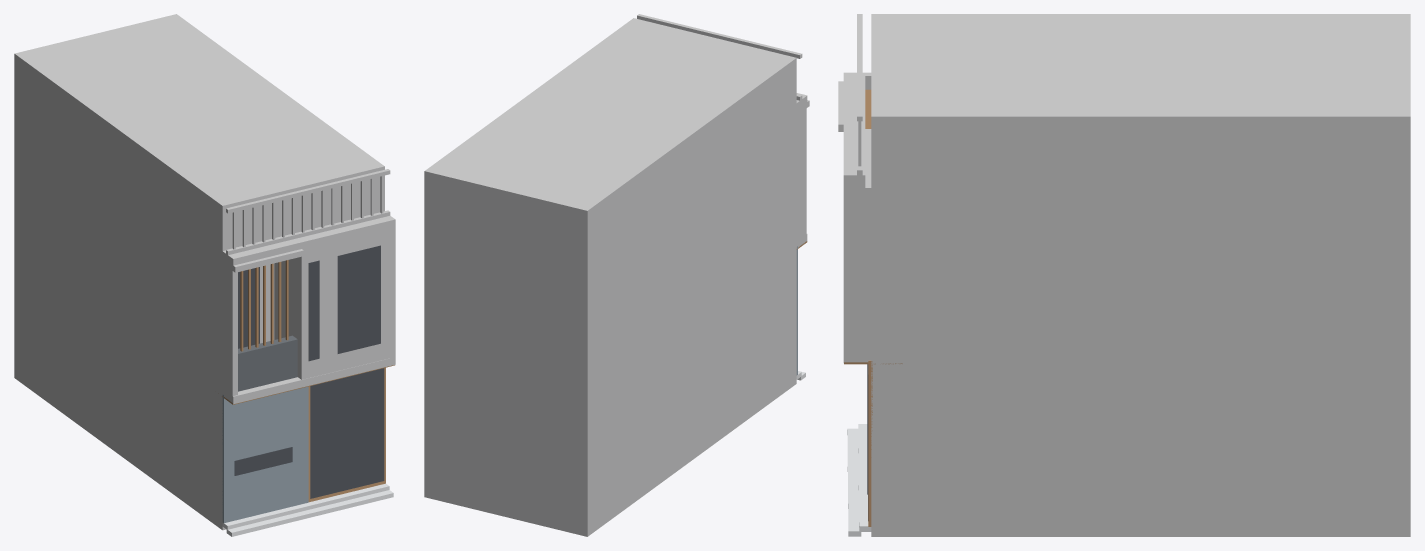
Rendered from tube_house_1.glb.
3 renders of one model, left to right at view 1: azimuth 30°, elevation 25°; view 2: azimuth 150°, elevation 25°; view 3: azimuth 270°, elevation 25°, orthographic. The views are drawn at different scales.
Visible parts, largest first — view 1: House_Core_Body_0, GF_Blue_Slate_Wall_3, F2_Right_White_Wall_29, GF_Door_Dark_Casing_7, F2_Right_Win_Frame_31, F2_Balcony_Dark_Parapet_15, F2_White_Frame_Top_13, F2_White_Frame_L_11, F2_Balcony_Deck_14, Entrance_Step_1_1, Entrance_Step_2_2, F2_Narrow_Slit_Frame_30 (+7 smaller); view 2: House_Core_Body_0, F2_White_Frame_L_11, Roof_Pergola_Top_Rail_32; view 3: House_Core_Body_0, F2_White_Frame_R_12, F2_Right_White_Wall_29, F2_White_Frame_Top_13, Entrance_Step_1_1, Entrance_Step_2_2, GF_Door_Wood_Trim_6.
Part boxes in pixels (x1,y1,x2,y2): House_Core_Body_0: [14, 14, 384, 530]; GF_Blue_Slate_Wall_3: [222, 386, 308, 523]; F2_Right_White_Wall_29: [260, 232, 389, 379]; GF_Door_Dark_Casing_7: [310, 368, 384, 498]; F2_Right_Win_Frame_31: [337, 245, 380, 353]; F2_Balcony_Dark_Parapet_15: [238, 335, 297, 391]; F2_White_Frame_Top_13: [225, 215, 395, 269]; F2_White_Frame_L_11: [189, 228, 237, 402]; F2_Balcony_Deck_14: [222, 358, 389, 404]; Entrance_Step_1_1: [226, 490, 393, 536]; Entrance_Step_2_2: [222, 483, 389, 529]; F2_Narrow_Slit_Frame_30: [308, 260, 319, 361]; House_Core_Body_0: [424, 18, 796, 536]; F2_White_Frame_L_11: [796, 96, 806, 248]; Roof_Pergola_Top_Rail_32: [637, 14, 802, 58]; House_Core_Body_0: [871, 14, 1410, 536]; F2_White_Frame_R_12: [843, 172, 865, 362]; F2_Right_White_Wall_29: [844, 129, 953, 353]; F2_White_Frame_Top_13: [843, 72, 865, 189]; Entrance_Step_1_1: [847, 428, 861, 536]; Entrance_Step_2_2: [858, 424, 871, 531]; GF_Door_Wood_Trim_6: [868, 360, 872, 526].
Size of the model in its own units: 4.5 by 8.6 by 10.61.
